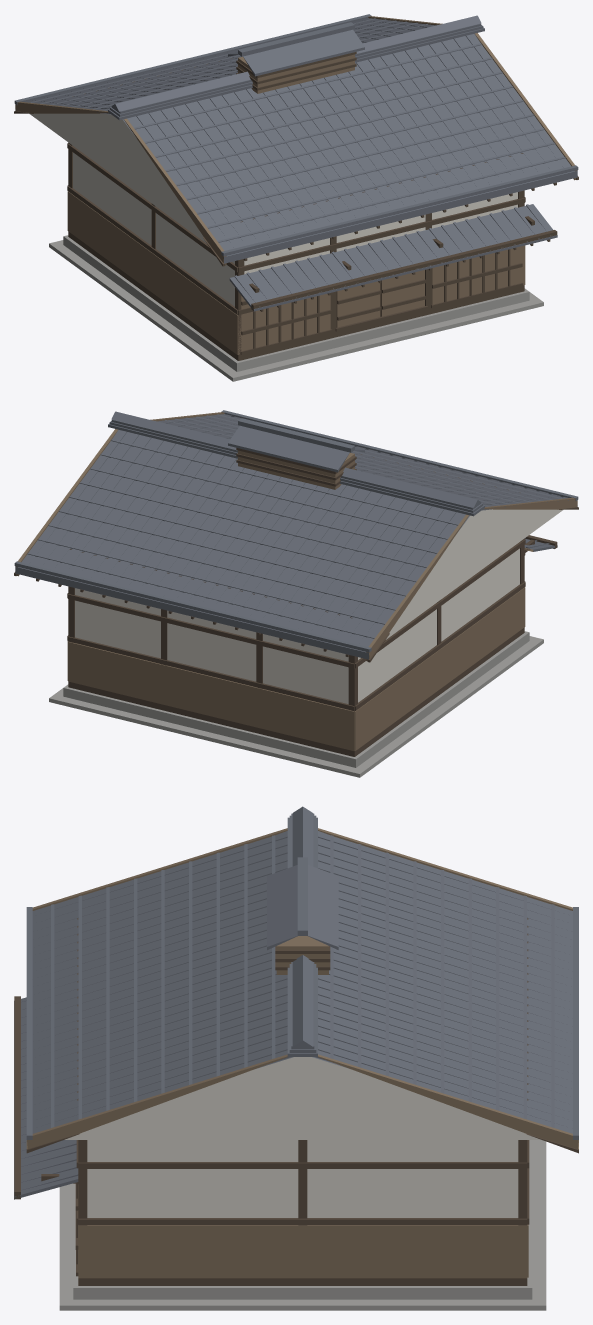
File: machiya_w_a.glb
The picture shows the model from 3 angles, top to bottom: view 1: azimuth 30°, elevation 25°; view 2: azimuth 150°, elevation 25°; view 3: azimuth 270°, elevation 25°; orthographic projection. The views are drawn at different scales.
Parts seen in each view (by area): view 1: machiya_w_a; view 2: machiya_w_a; view 3: machiya_w_a.
Boxes of the visible parts, x1=… form: machiya_w_a: x1=14, y1=14, x2=578, y2=381; machiya_w_a: x1=14, y1=410, x2=578, y2=777; machiya_w_a: x1=14, y1=806, x2=578, y2=1310.
Bounding box in the file's own units: 9.2 × 5.75 × 9.31.
